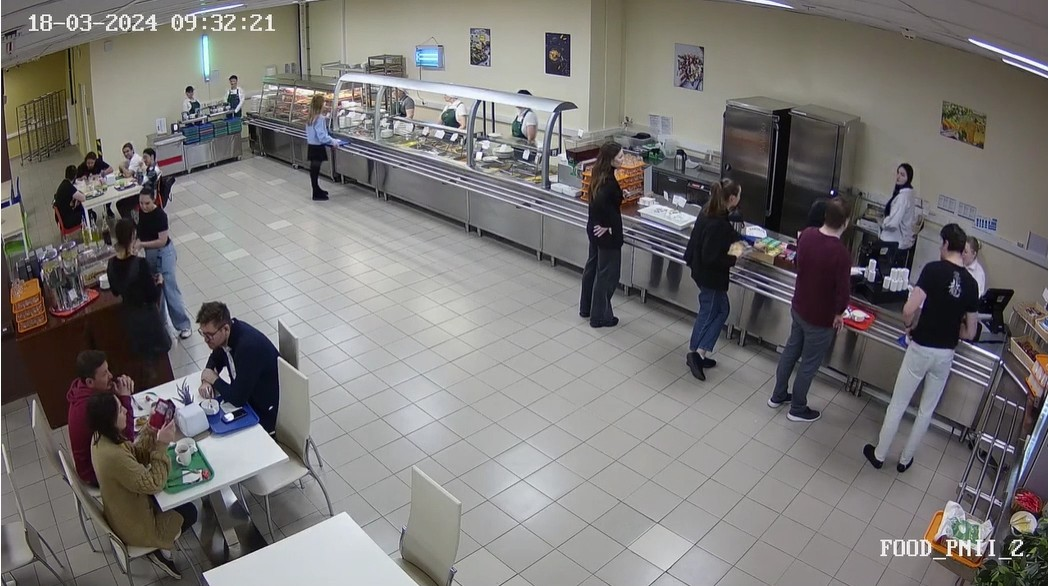Na_Kasse: (784, 206, 1015, 473), (705, 181, 883, 427)
Ne_v_Ocheredi: (93, 218, 204, 380), (124, 191, 230, 341)
Personal: (879, 153, 923, 260), (433, 86, 469, 142), (217, 70, 248, 117), (511, 94, 539, 146), (177, 82, 204, 123), (389, 85, 418, 123)
Vybiraet: (641, 156, 754, 385), (578, 131, 633, 335), (295, 85, 344, 207)
Za_Stolom: (189, 297, 290, 441), (92, 393, 179, 534), (66, 346, 125, 477), (53, 163, 83, 231), (72, 145, 117, 180), (137, 147, 171, 189), (118, 141, 139, 174)
